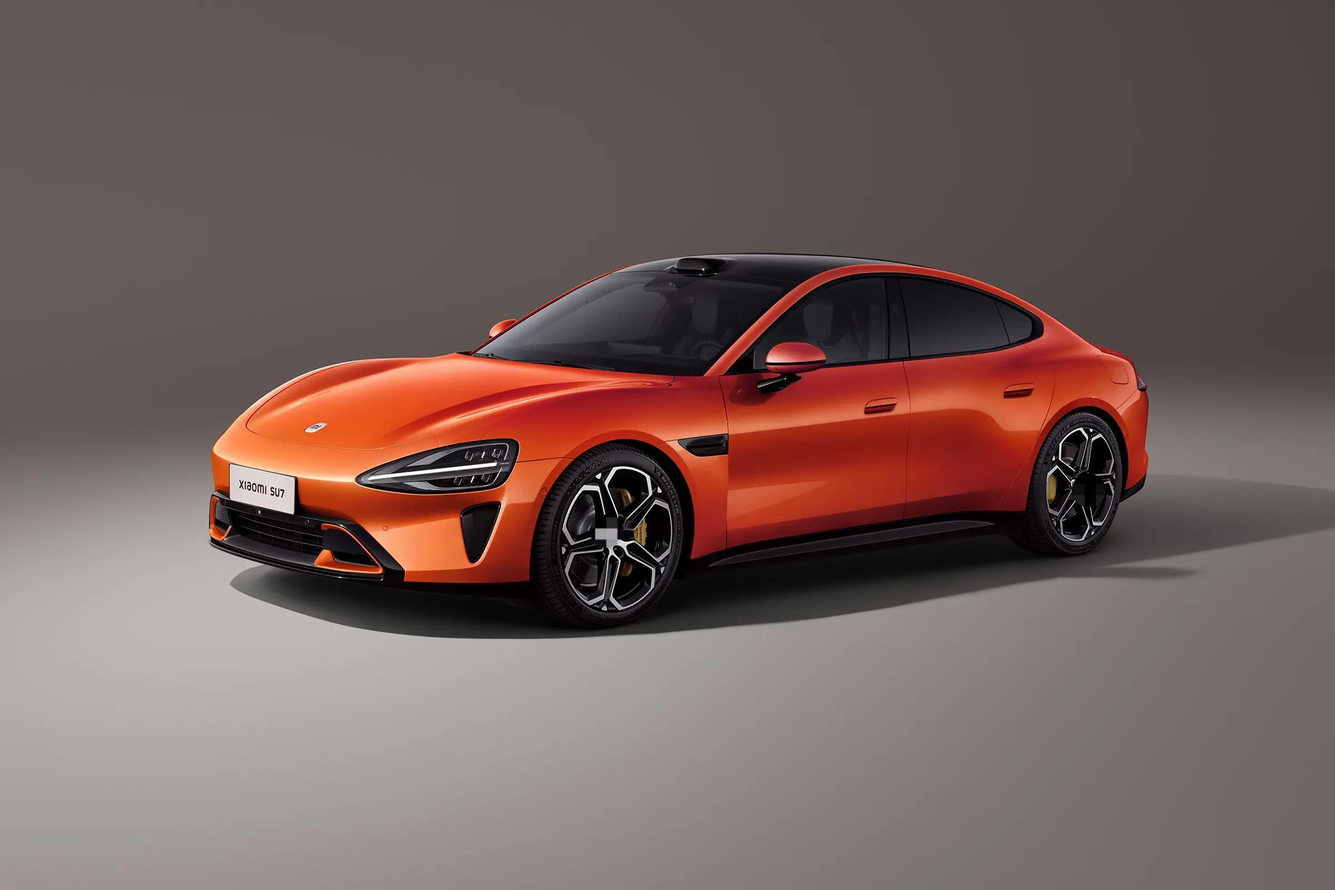XIAOMI: (303, 423, 327, 434)
